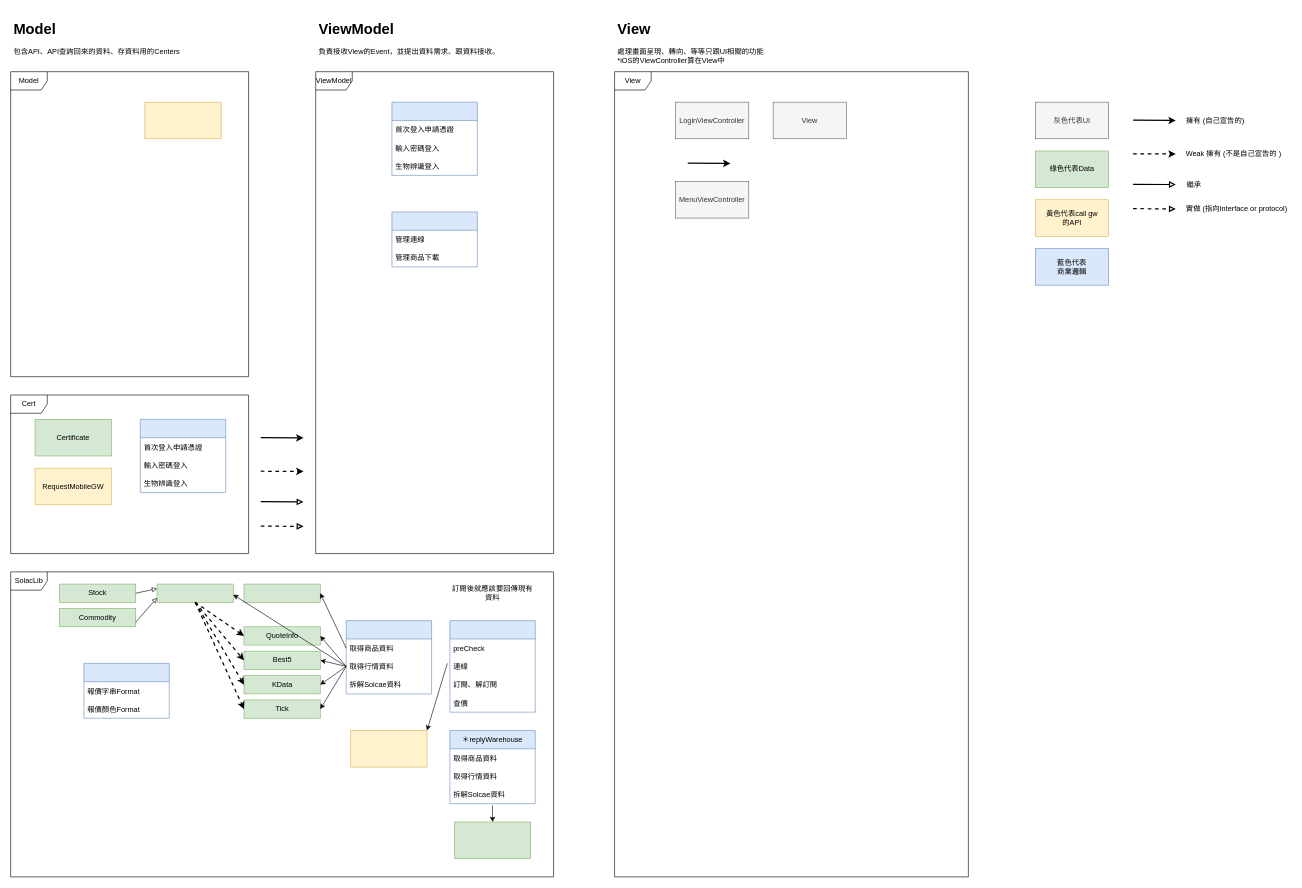
The diagram is 1302 pixels wide and 888 high, and some of its shapes have lost their labels. The shapes that lost their labels are listed below. From the top down, each one's box as (x1, y1, x2, y2) in pixels, then its label:
(144, 102, 221, 139): RequestAuthentication
(391, 102, 477, 175): LoginViewModel
(391, 211, 477, 267): SolaceViewModel
(140, 419, 226, 493): ＊CertCenter
(156, 583, 233, 602): Product
(243, 583, 320, 602): Exchange
(346, 620, 432, 694): ＊quoteWarehouse
(449, 620, 535, 712): ＊requestCenter
(83, 663, 169, 718): quoteFormatter
(350, 730, 427, 767): SolaceDAO
(454, 821, 531, 859): ReplyData
